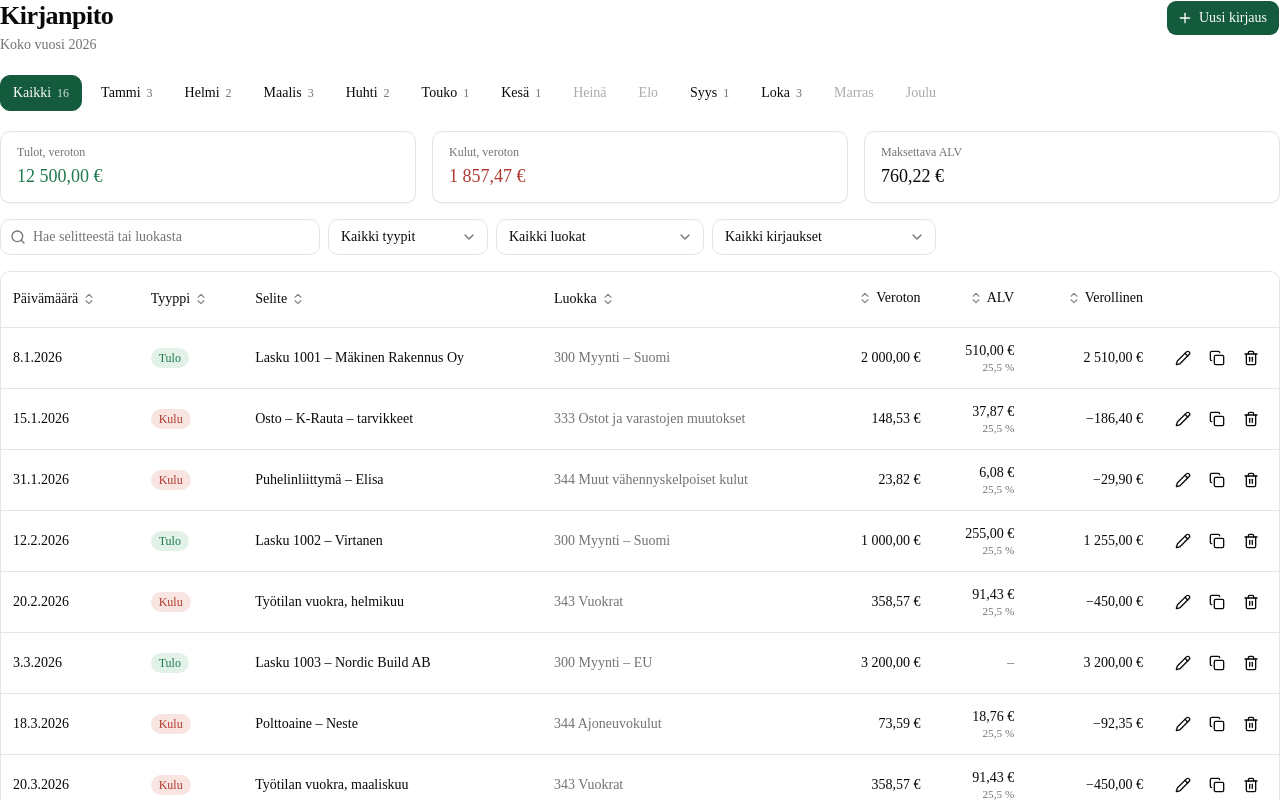
Test case: LedgerView with the sample data › filters by type and offers to clear the filters
Click the dropdown named "Tyyppi": [408, 236] box [328,218,488,254]
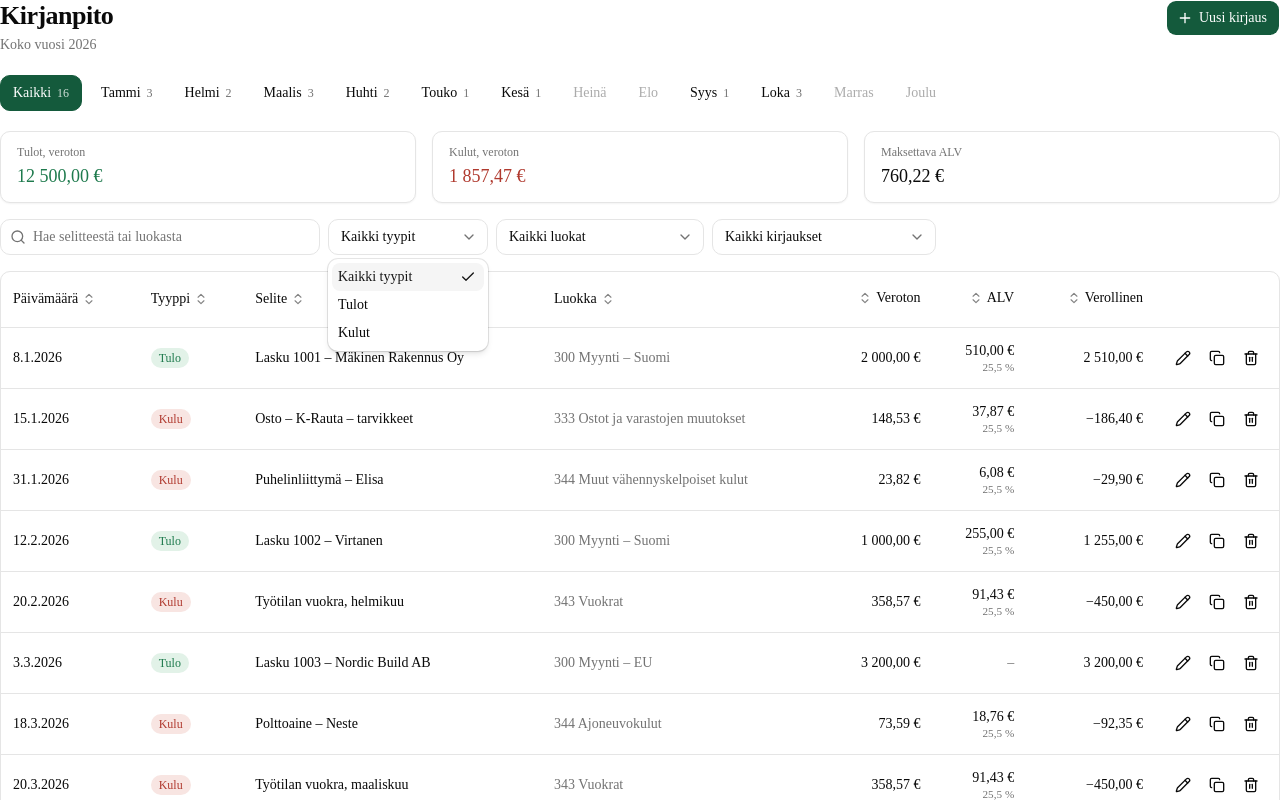
Click the option "Tulot": [353, 304] box [338,297,368,312]
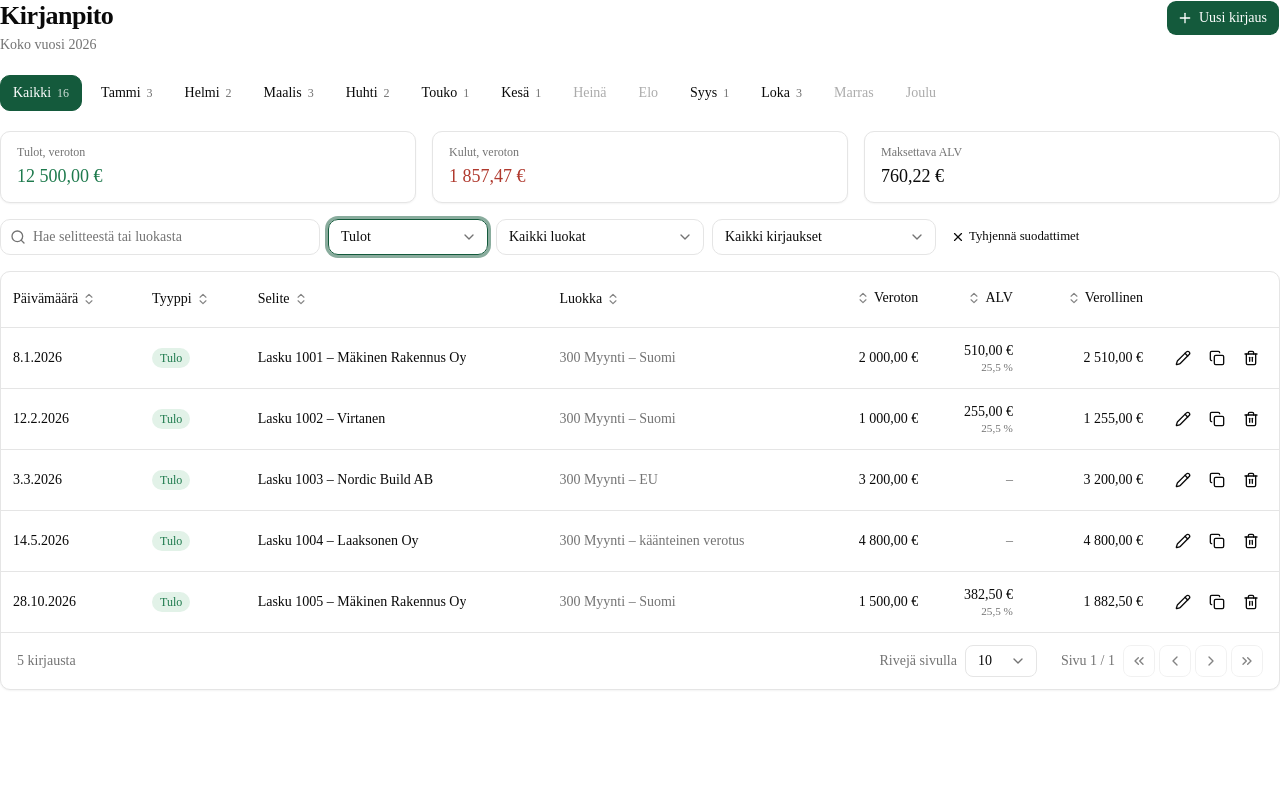
expect the text "5 kirjausta" is shown: met, box [17,651,76,671]
Click the button "Tyhjennä suodattimet": [1017, 236] box [944,220,1090,252]
(page scrolled)
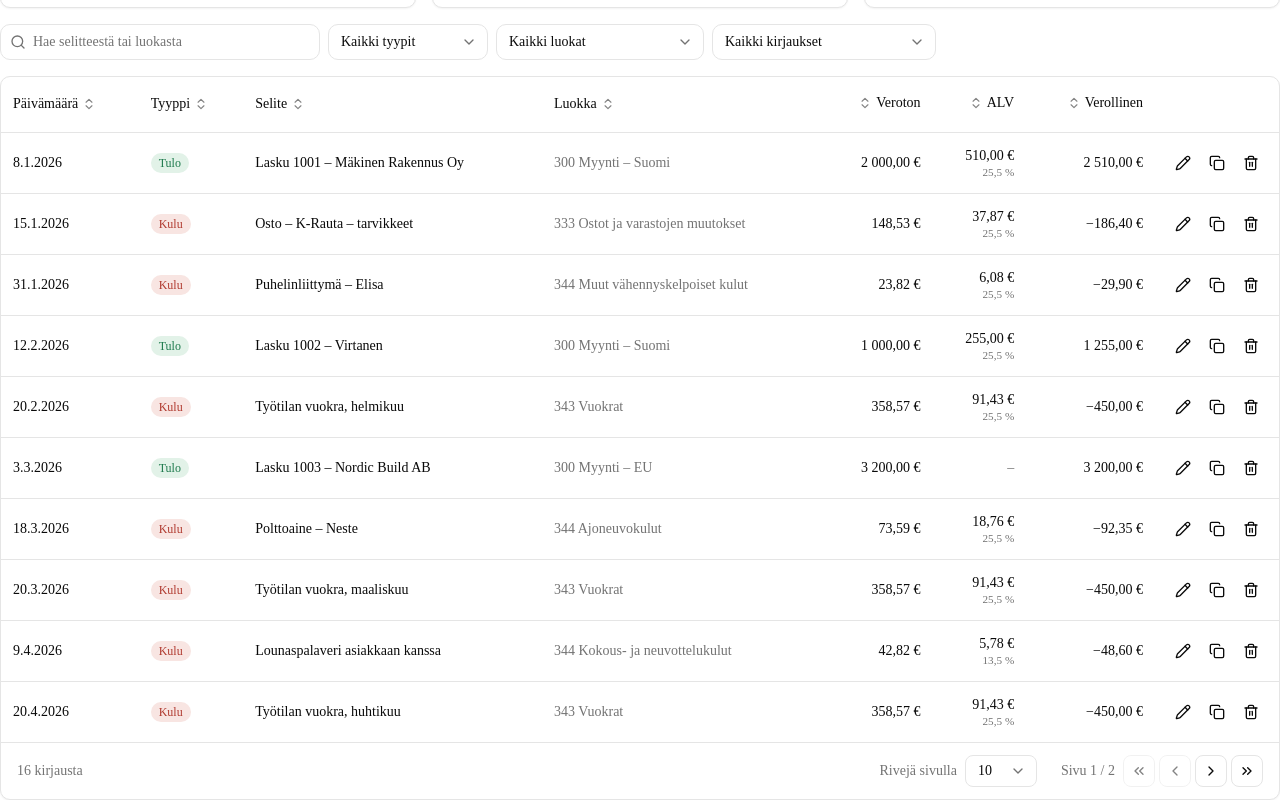
expect the text "16 kirjausta" is shown: met, box [17,761,83,781]
